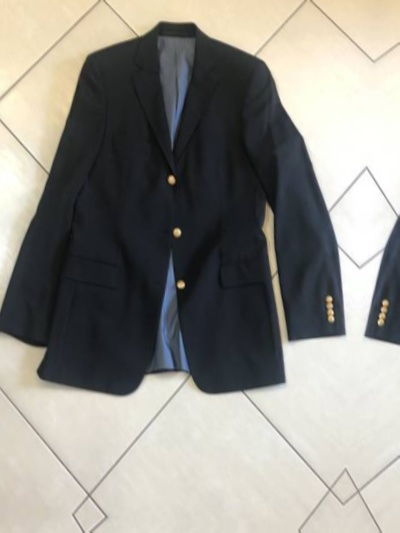Blazer: (0, 0, 359, 423), (368, 23, 400, 450), (0, 0, 2, 398)
